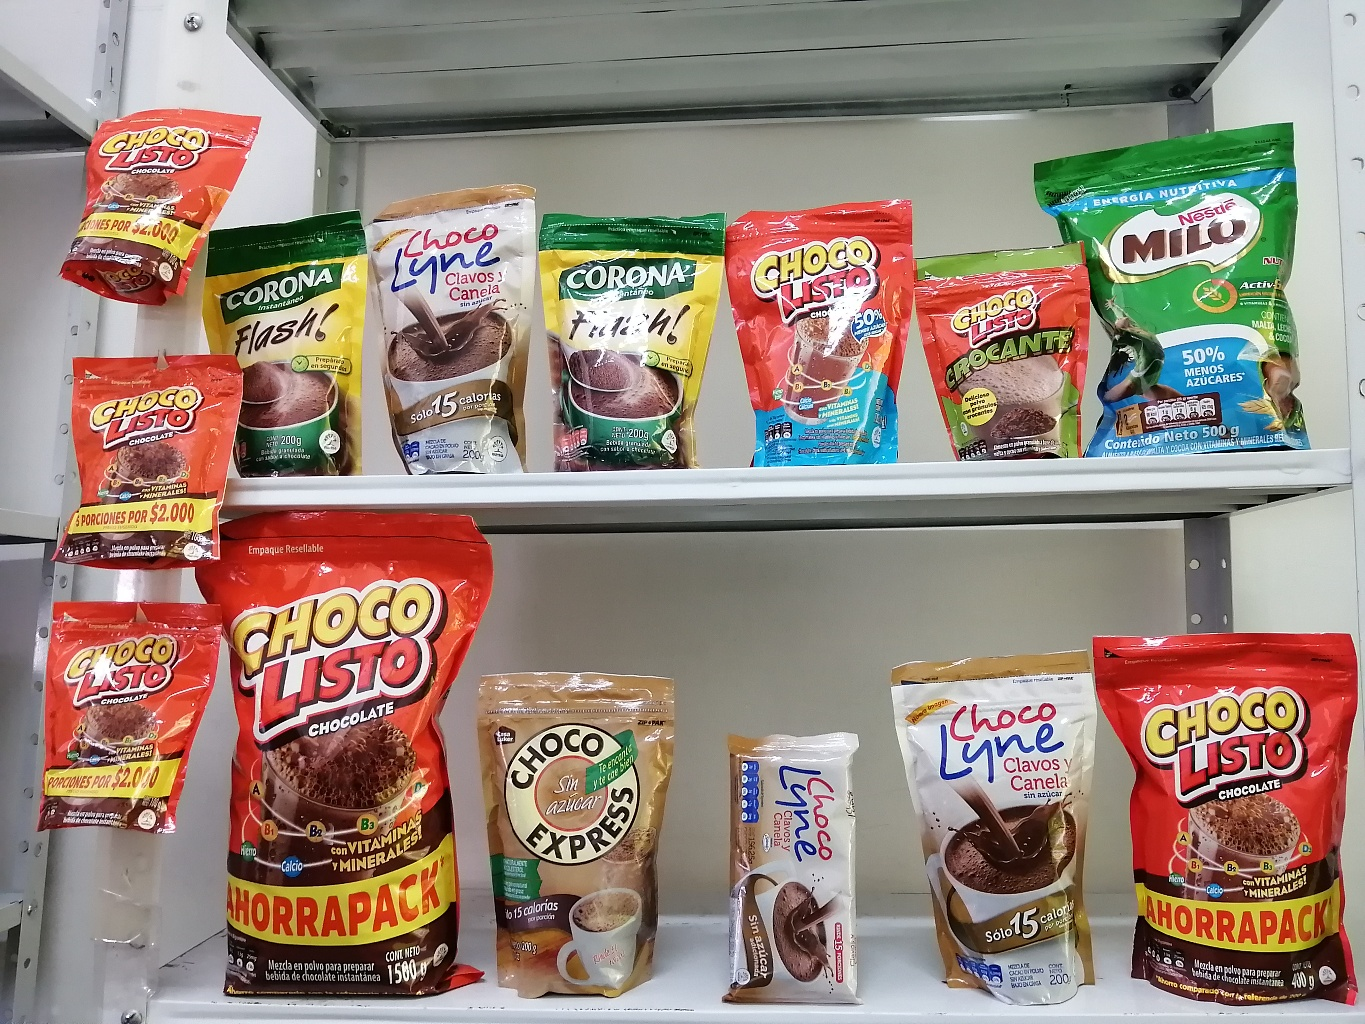COL0170102DYP10000: (907, 243, 1111, 473)
COL0170103DYP1,500: (185, 501, 489, 1001)
COL0170103DYP10000: (33, 593, 225, 845)
COL0170103DYP40000: (1087, 629, 1365, 1010)
COL0170104DYP20000: (713, 193, 932, 493)
COL0170205DYP50000: (1030, 111, 1331, 457)
